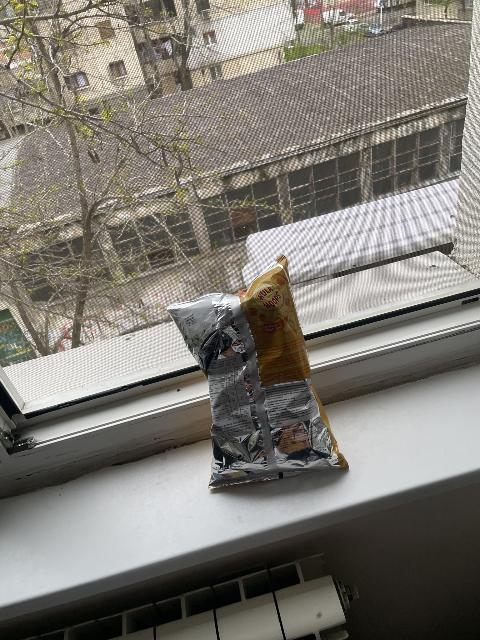Chio Hula Hoops Cheese 70g: (168, 253, 351, 487)
